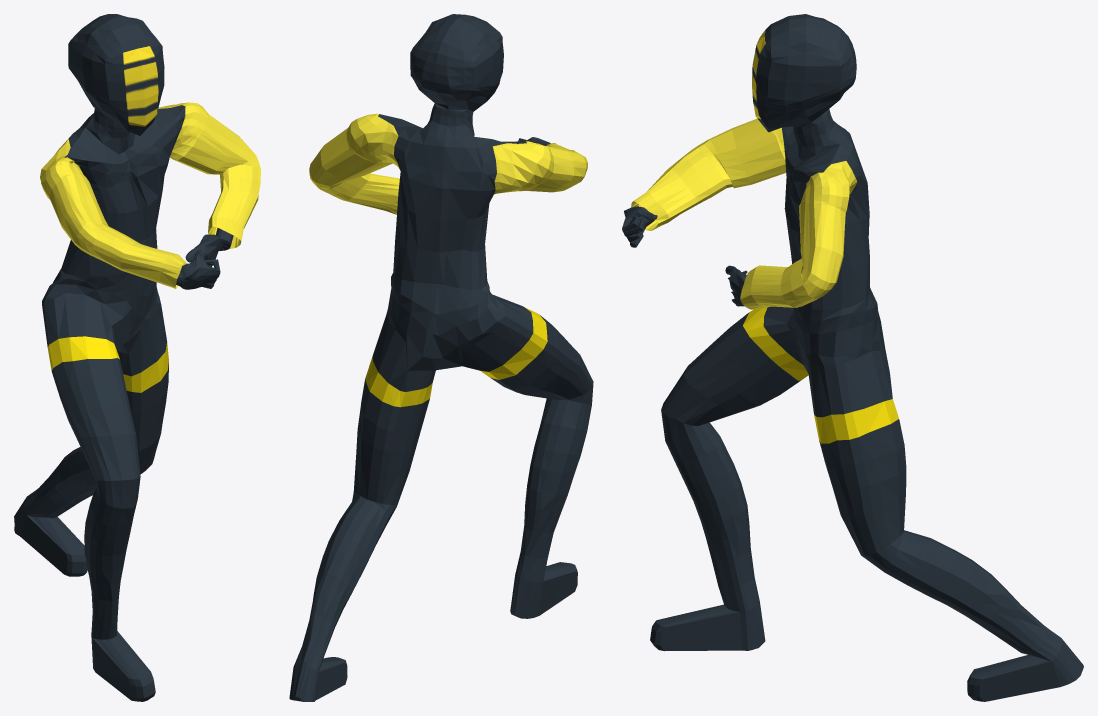
File: Sentry_Hit_Stun_Recover_000004.obj
3 views of the same model, side by side, from view 1: azimuth 30°, elevation 25°; view 2: azimuth 150°, elevation 25°; view 3: azimuth 270°, elevation 25° (orthographic). The views are drawn at different scales.
Parts seen in each view (by area): view 1: Cube; view 2: Cube; view 3: Cube.
Part boxes in pixels (x1=…): Cube: x1=14, y1=14, x2=260, y2=701; Cube: x1=289, y1=14, x2=593, y2=701; Cube: x1=622, y1=14, x2=1083, y2=701.
Size of the model in its own units: 1.37 by 3.53 by 2.25.
